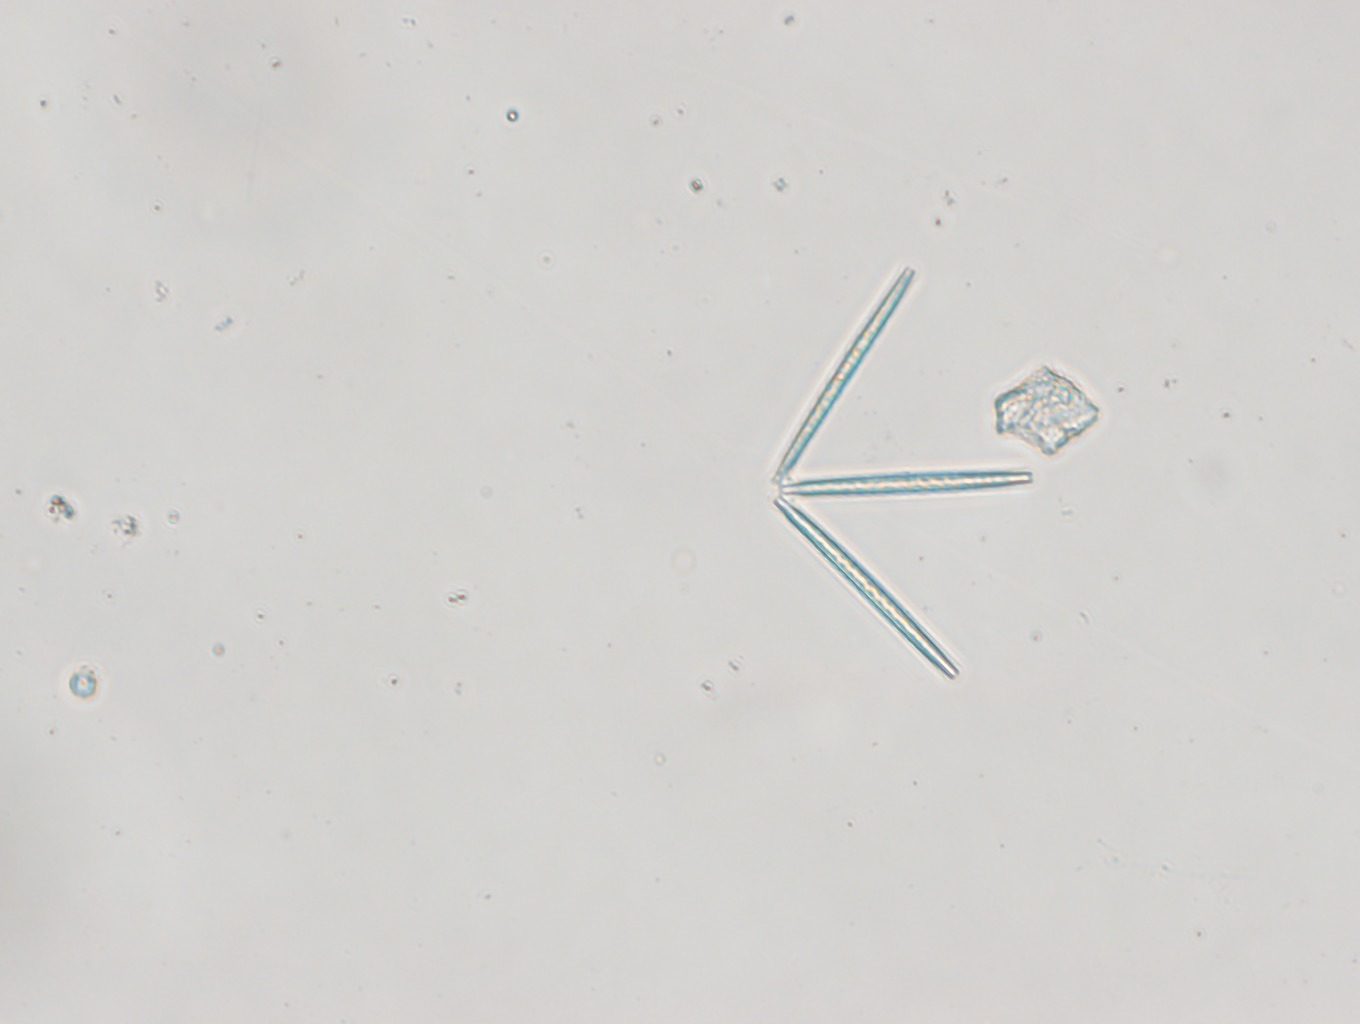thalassionema nitzschioides: (768, 260, 1039, 681)
